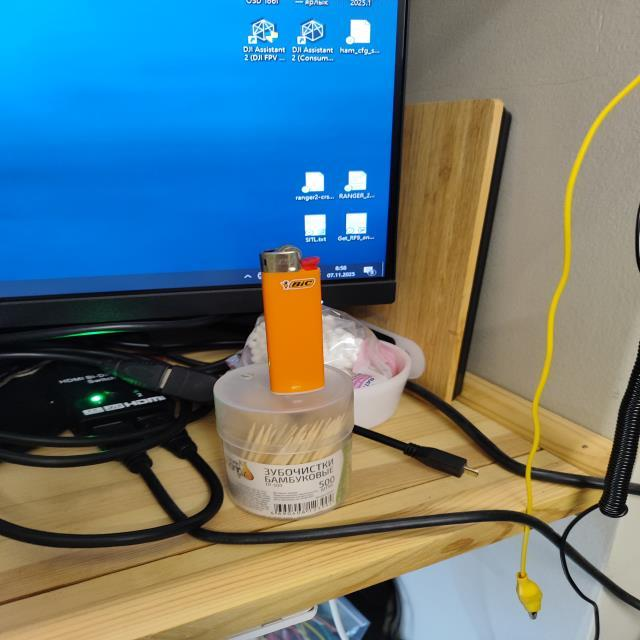lighter: (260, 245, 323, 393)
